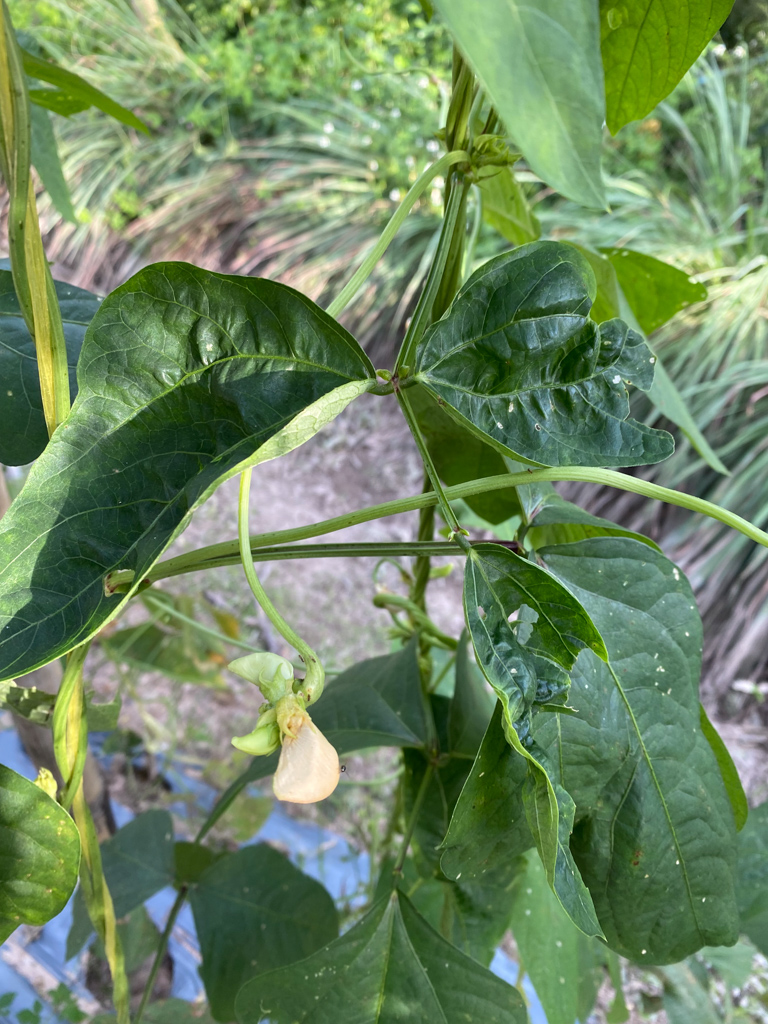Leaf Curl Disease: (420, 239, 701, 482), (450, 550, 620, 937)
